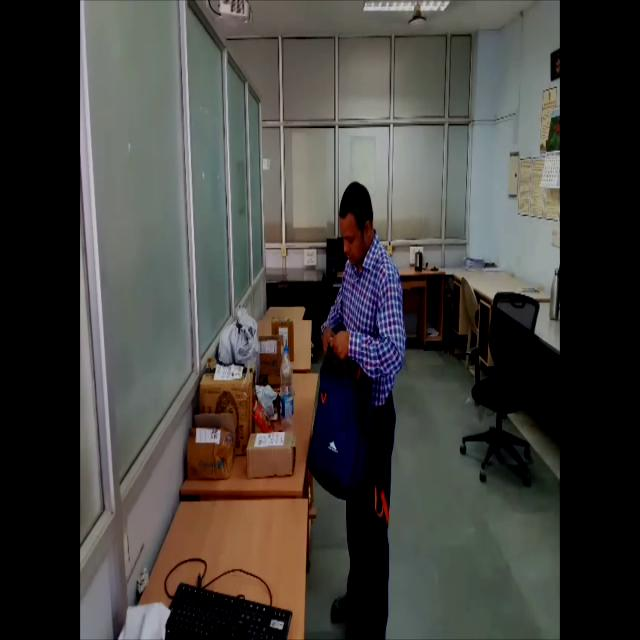shoplifting: (305, 177, 408, 640)
